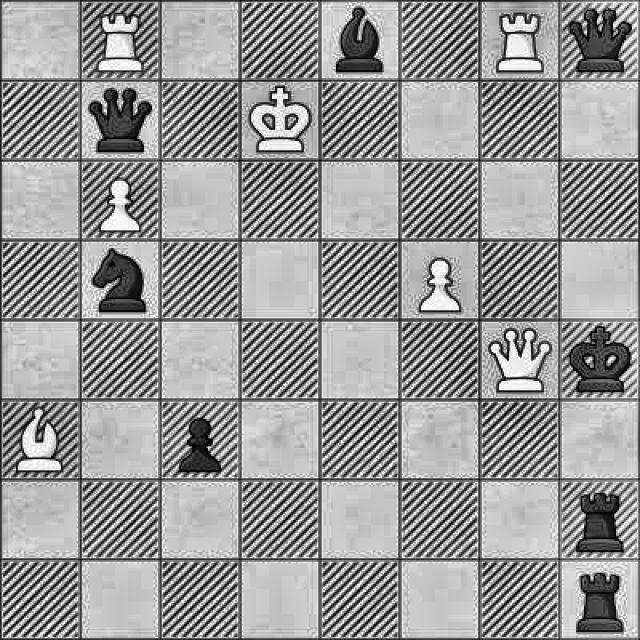Black Knight: (90, 246, 153, 319)
black bishop: (326, 0, 394, 78)
black pawn: (170, 409, 228, 479)
black queen: (82, 83, 154, 160), (564, 4, 634, 80)
black rook: (569, 564, 630, 638), (572, 483, 629, 559)
white bishop: (9, 405, 72, 474)
white king: (244, 88, 314, 156)
white pawn: (408, 247, 471, 315), (91, 167, 150, 235)
white queen: (485, 323, 553, 399)
white rook: (87, 3, 156, 75), (490, 6, 553, 79)
